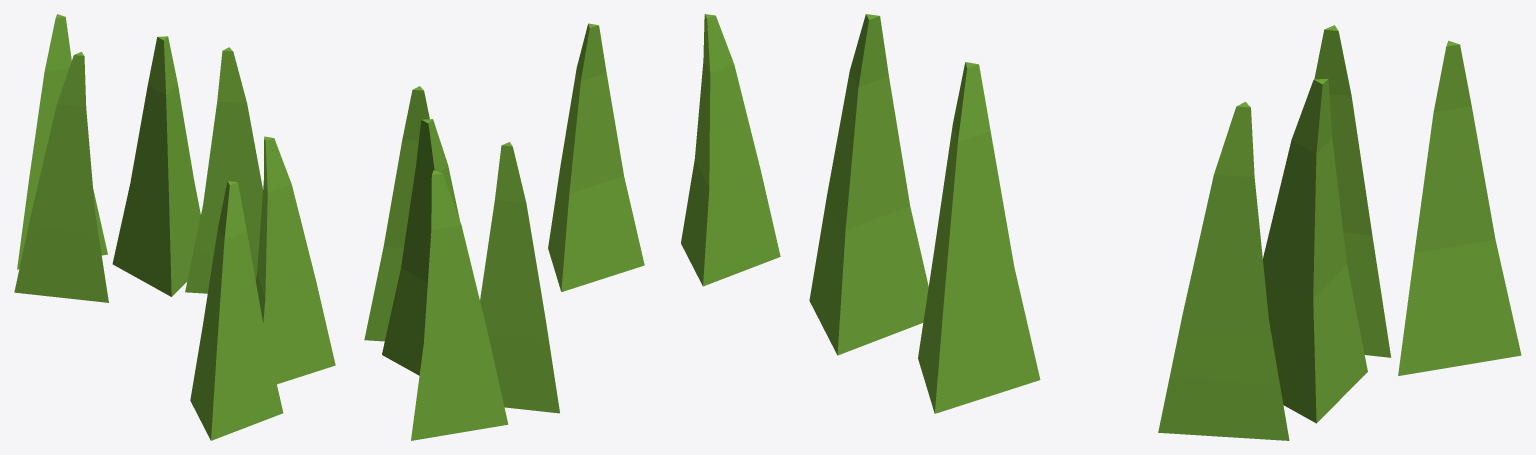
The model's file is Grass.fbx.
3 views of the same model, side by side, from view 1: azimuth 30°, elevation 25°; view 2: azimuth 150°, elevation 25°; view 3: azimuth 270°, elevation 25° (orthographic). The views are drawn at different scales.
Visible parts, largest first — view 1: Cylinder.004, Cylinder.008, Cylinder.009, Cylinder.002, Cylinder.007, Cylinder.010; view 2: Cylinder.004, Cylinder.002, Cylinder.010, Cylinder.009, Cylinder.008, Cylinder.007; view 3: Cylinder.007, Cylinder.004, Cylinder.002, Cylinder.010, Cylinder.008, Cylinder.009.
Boxes of the visible parts, x1,y1,x2,y2 form: Cylinder.004: (190, 181, 283, 440); Cylinder.008: (112, 36, 200, 296); Cylinder.009: (14, 52, 108, 302); Cylinder.002: (255, 136, 335, 384); Cylinder.007: (185, 47, 262, 293); Cylinder.010: (17, 14, 107, 269); Cylinder.004: (681, 14, 780, 286); Cylinder.002: (548, 23, 644, 291); Cylinder.010: (411, 170, 508, 440); Cylinder.009: (480, 142, 559, 413); Cylinder.008: (382, 119, 459, 375); Cylinder.007: (364, 86, 429, 341); Cylinder.007: (1158, 102, 1289, 440); Cylinder.004: (809, 14, 928, 355); Cylinder.002: (918, 62, 1040, 413); Cylinder.010: (1398, 40, 1521, 375); Cylinder.008: (1263, 78, 1367, 423); Cylinder.009: (1314, 25, 1391, 357).
Size of the model in its own units: 98.05 by 211 by 102.
